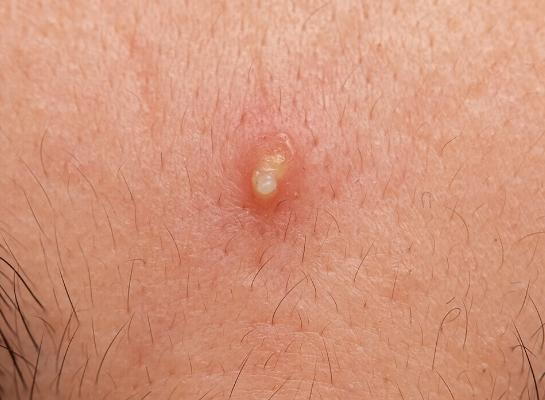cystic: (223, 126, 328, 226)
